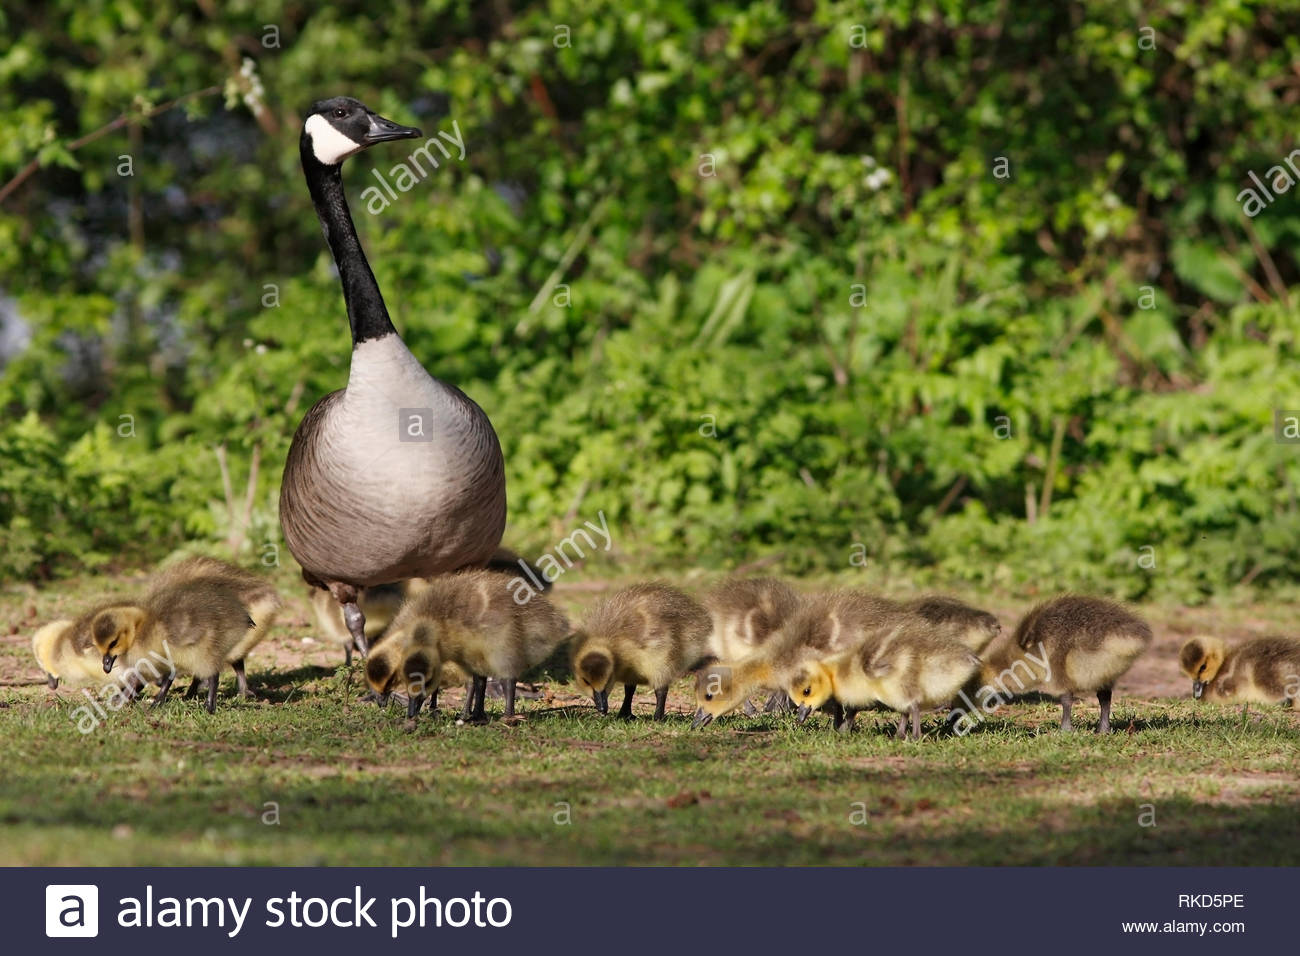goose: (275, 93, 512, 598)
